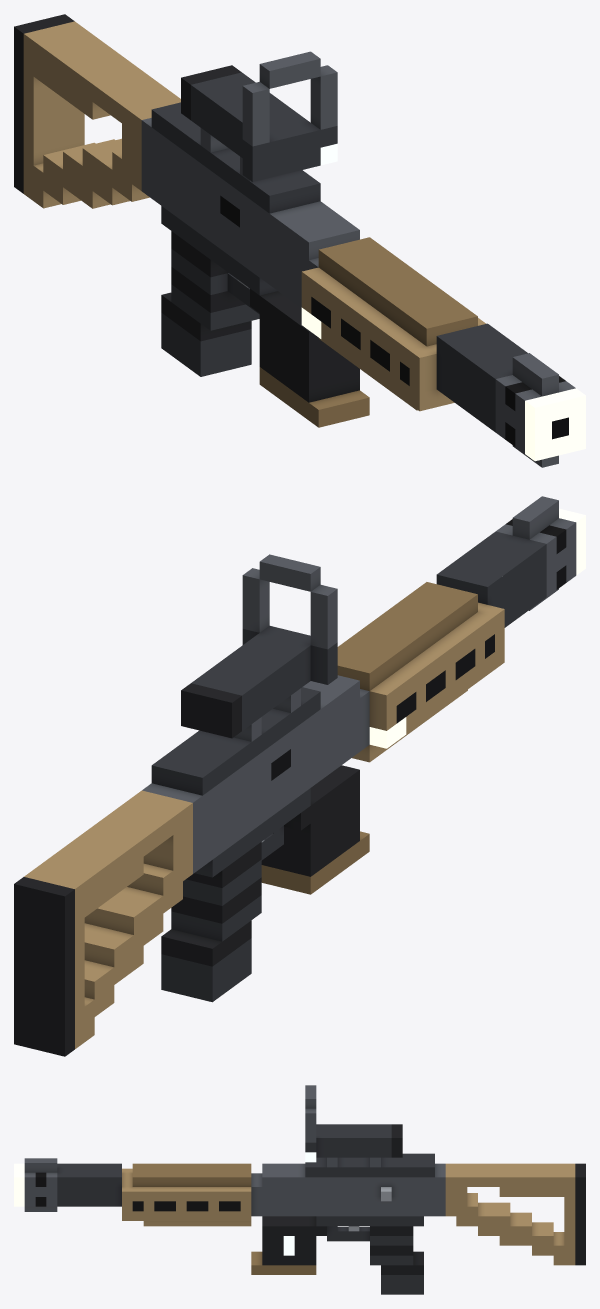
The model's file is rebel_rifle.glb.
3 renders of one model, top to bottom at view 1: azimuth 30°, elevation 25°; view 2: azimuth 150°, elevation 25°; view 3: azimuth 270°, elevation 25°, orthographic. The views are drawn at different scales.
Parts seen in each view (by area): view 1: rebel_rifle_body; view 2: rebel_rifle_body; view 3: rebel_rifle_body.
Part boxes in pixels (x1,y1,x2,y2): rebel_rifle_body: (14, 14, 585, 467); rebel_rifle_body: (14, 496, 585, 1056); rebel_rifle_body: (14, 1085, 585, 1294).
Size of the model in its own units: 0.1953 by 0.7812 by 2.07.
1 material, 1 textured.
